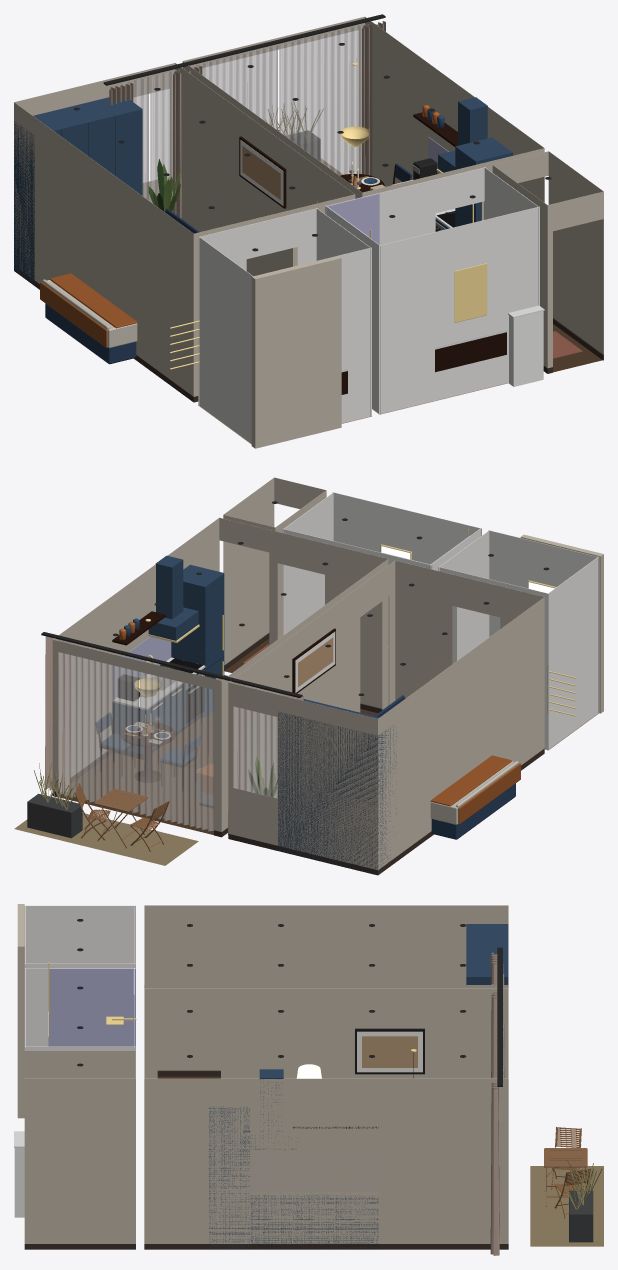
File: unit-1.A-lisboa.glb
3 renders of one model, top to bottom at view 1: azimuth 30°, elevation 25°; view 2: azimuth 150°, elevation 25°; view 3: azimuth 270°, elevation 25°, orthographic. The views are drawn at different scales.
Visible parts, largest first — view 1: int-wall, int-bathWall, int-sheer, int-joineryTall, int-curtain, int-wood, int-bedThrow, int-metal, int-whiteGloss, int-matteBlack, int-joinery, int-headboard (+7 smaller); view 2: int-wall, int-bathWall, int-sheer, int-joineryTall, int-floor, int-joinery, int-curtain, int-deck, int-bedThrow, int-wood, int-skirting, int-matteBlack (+14 smaller); view 3: int-wall, int-bathWall, int-showerWall, int-deck, int-joineryTall, int-skirting, int-joinery, int-curtain, int-art:1:0, int-outdoor, int-matteBlack, int-passepartout (+7 smaller).
Boxes of the visible parts, left/top/right/bottom form: int-wall: left=14, top=16, right=603, bottom=448; int-bathWall: left=198, top=167, right=539, bottom=443; int-sheer: left=122, top=23, right=365, bottom=211; int-joineryTall: left=14, top=97, right=512, bottom=284; int-curtain: left=109, top=21, right=385, bottom=218; int-wood: left=165, top=112, right=506, bottom=394; int-bedThrow: left=40, top=273, right=137, bottom=347; int-metal: left=169, top=62, right=487, bottom=369; int-whiteGloss: left=509, top=311, right=543, bottom=386; int-matteBlack: left=103, top=14, right=455, bottom=214; int-joinery: left=435, top=97, right=487, bottom=229; int-headboard: left=45, top=208, right=199, bottom=364; int-wall: left=52, top=477, right=603, bottom=869; int-bathWall: left=282, top=492, right=599, bottom=750; int-sheer: left=58, top=652, right=277, bottom=831; int-joineryTall: left=171, top=564, right=396, bottom=874; int-floor: left=60, top=675, right=377, bottom=834; int-joinery: left=112, top=555, right=203, bottom=754; int-curtain: left=45, top=636, right=303, bottom=834; int-deck: left=14, top=813, right=198, bottom=865; int-bedThrow: left=430, top=755, right=520, bottom=824; int-wood: left=112, top=611, right=405, bottom=782; int-skirting: left=52, top=633, right=544, bottom=875; int-matteBlack: left=41, top=632, right=302, bottom=759; int-wall: left=17, top=904, right=508, bottom=1243; int-bathWall: left=24, top=905, right=135, bottom=1050; int-showerWall: left=48, top=968, right=135, bottom=1046; int-deck: left=530, top=1166, right=603, bottom=1246; int-joineryTall: left=209, top=924, right=508, bottom=1248; int-skirting: left=24, top=1070, right=508, bottom=1249; int-joinery: left=244, top=1069, right=378, bottom=1243; int-curtain: left=490, top=952, right=499, bottom=1255; int-art:1:0: left=362, top=1036, right=417, bottom=1067; int-outdoor: left=569, top=1190, right=593, bottom=1242; int-matteBlack: left=251, top=947, right=502, bottom=1249; int-passepartout: left=357, top=1031, right=422, bottom=1072.
Bounding box in the file's own units: 6.62 × 2.8 × 8.41.
